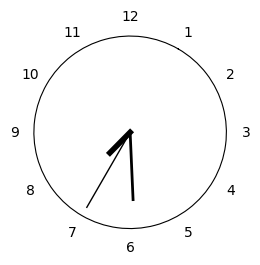12: (121, 8, 139, 24)
circle: (33, 36, 227, 229)
hours: (105, 129, 133, 157)
minutes: (128, 135, 134, 201)
seconds: (87, 138, 126, 207)
